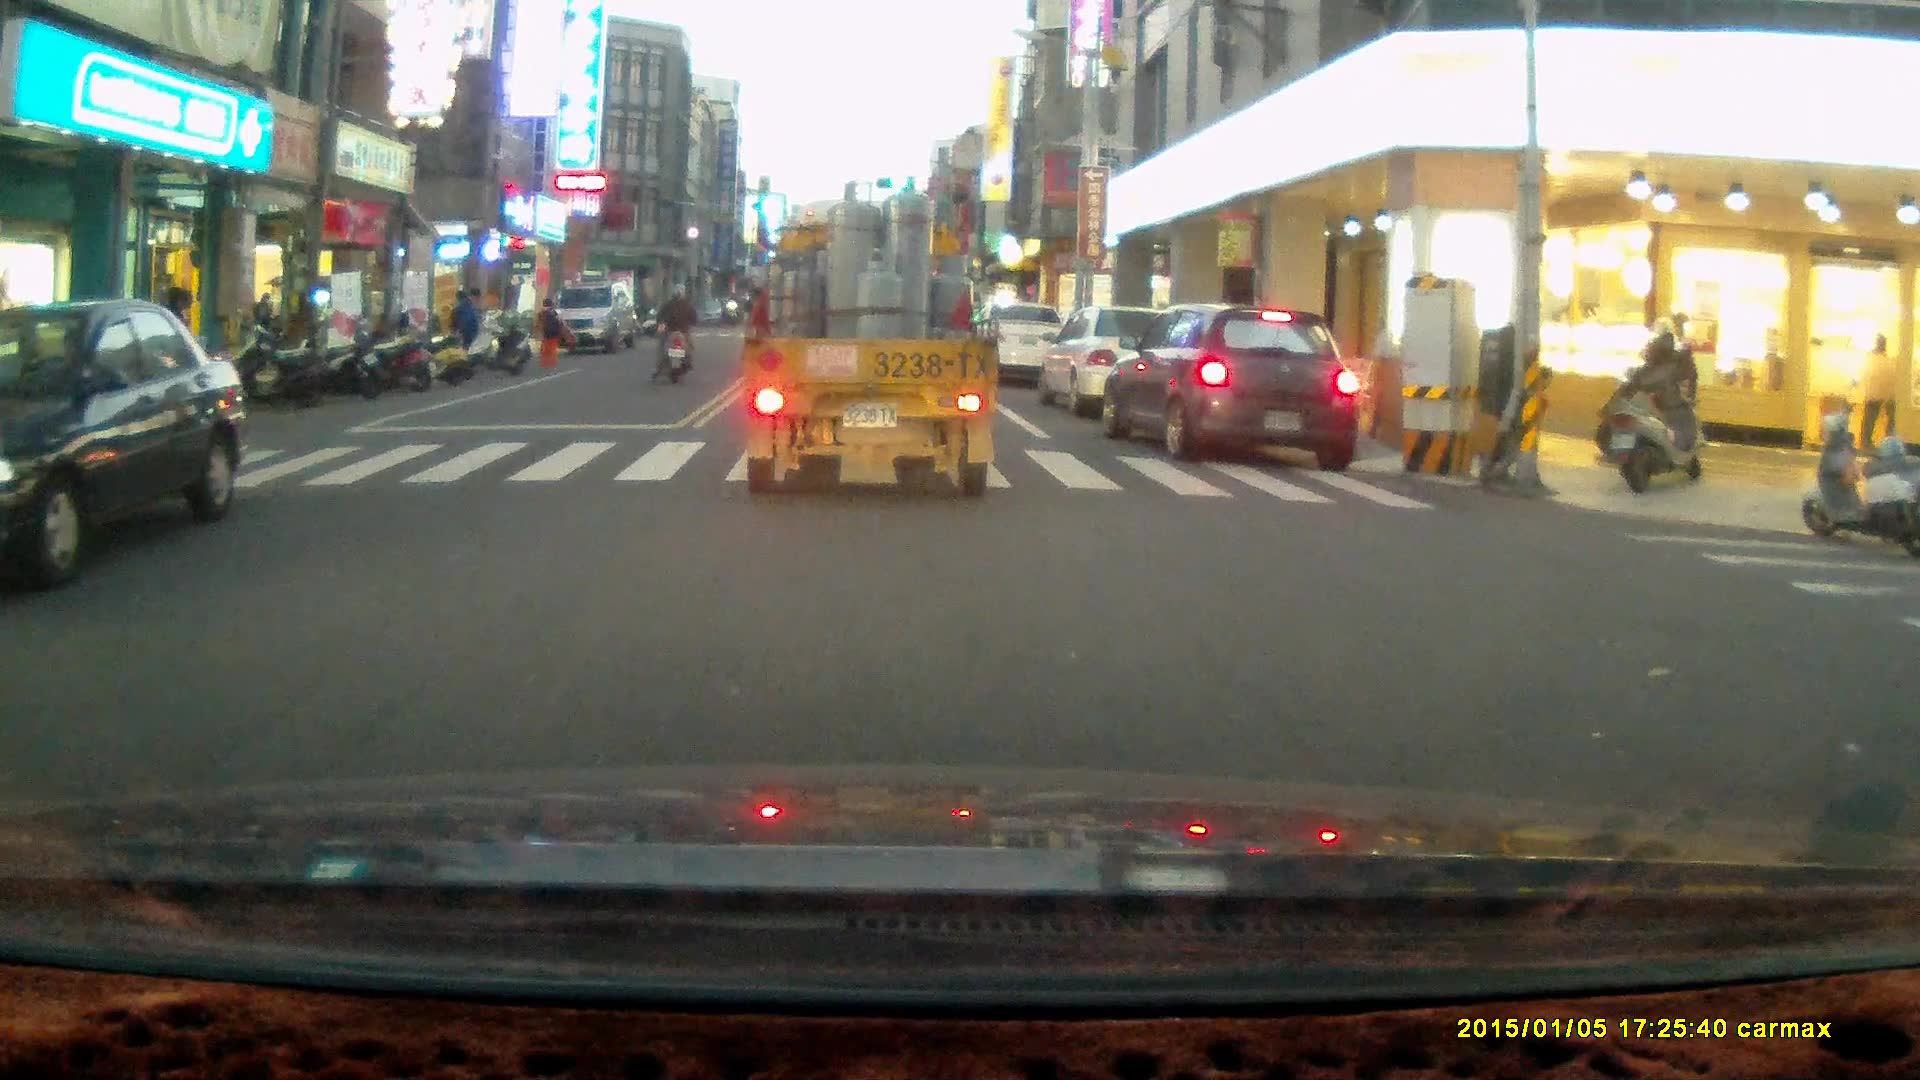pedestrian: (449, 282, 484, 369), (531, 292, 568, 367)
rider: (1592, 315, 1700, 468), (649, 277, 696, 384)
vehicle: (742, 173, 999, 501), (1, 296, 243, 589), (1106, 301, 1358, 468), (1048, 305, 1214, 420), (974, 300, 1076, 389), (548, 281, 641, 355)
